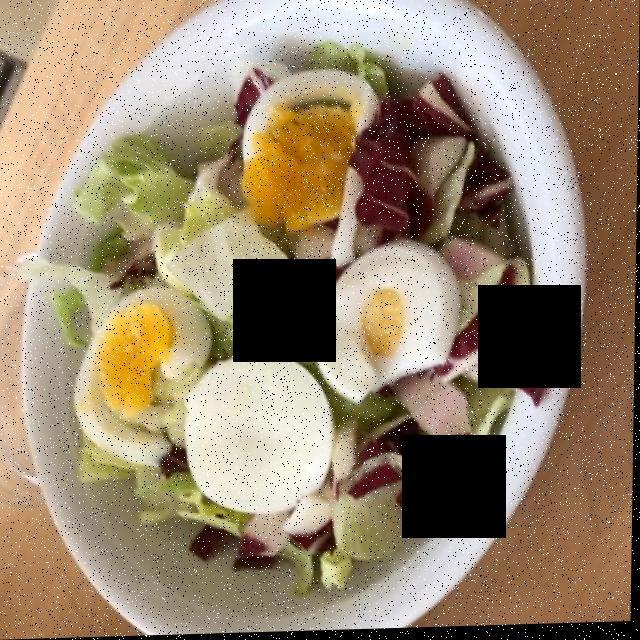egg: (83, 71, 461, 513)
salad: (74, 47, 545, 585)
